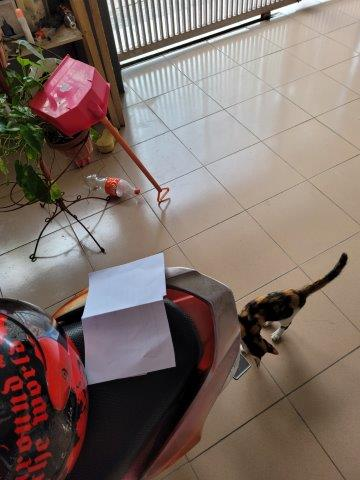botolplastik: (83, 173, 141, 202)
kertas: (82, 253, 177, 382)
